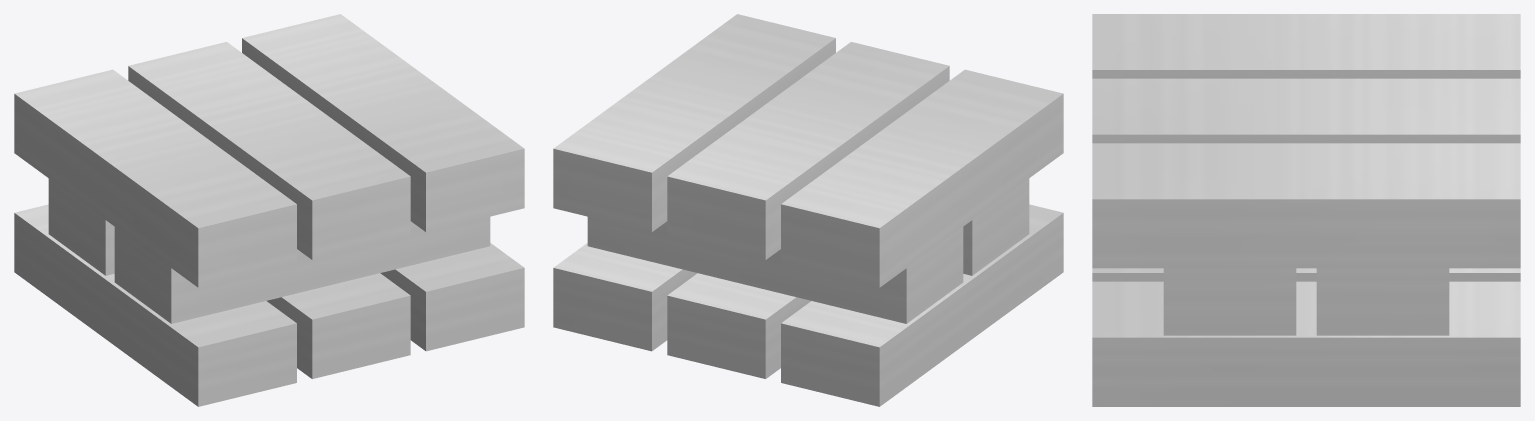
File: item_plasteel.obj
The picture shows the model from 3 angles, left to right: view 1: azimuth 30°, elevation 25°; view 2: azimuth 150°, elevation 25°; view 3: azimuth 270°, elevation 25°; orthographic projection. The views are drawn at different scales.
Visible parts, largest first — view 1: item_plasteel; view 2: item_plasteel; view 3: item_plasteel.
Boxes of the visible parts, left/top/right/bottom form: item_plasteel: left=14, top=14, right=524, bottom=406; item_plasteel: left=553, top=14, right=1063, bottom=406; item_plasteel: left=1092, top=14, right=1520, bottom=406.
Bounding box in the file's own units: 0.43 × 0.225 × 0.42.
